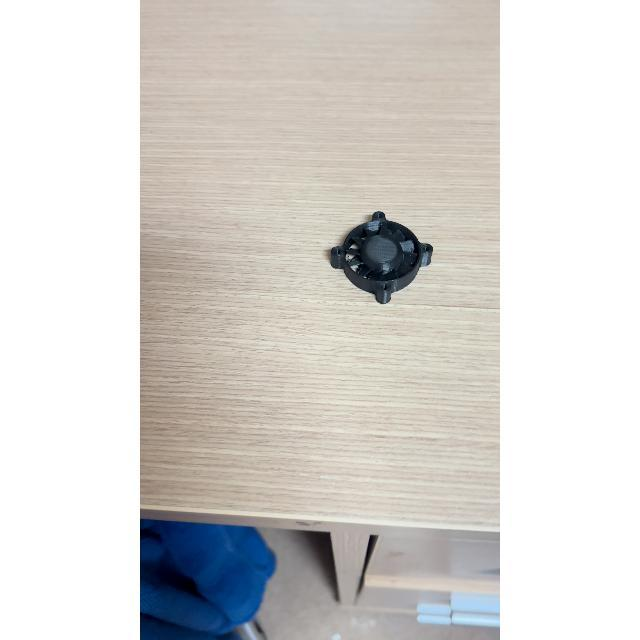Pieza4: (318, 204, 444, 316)
